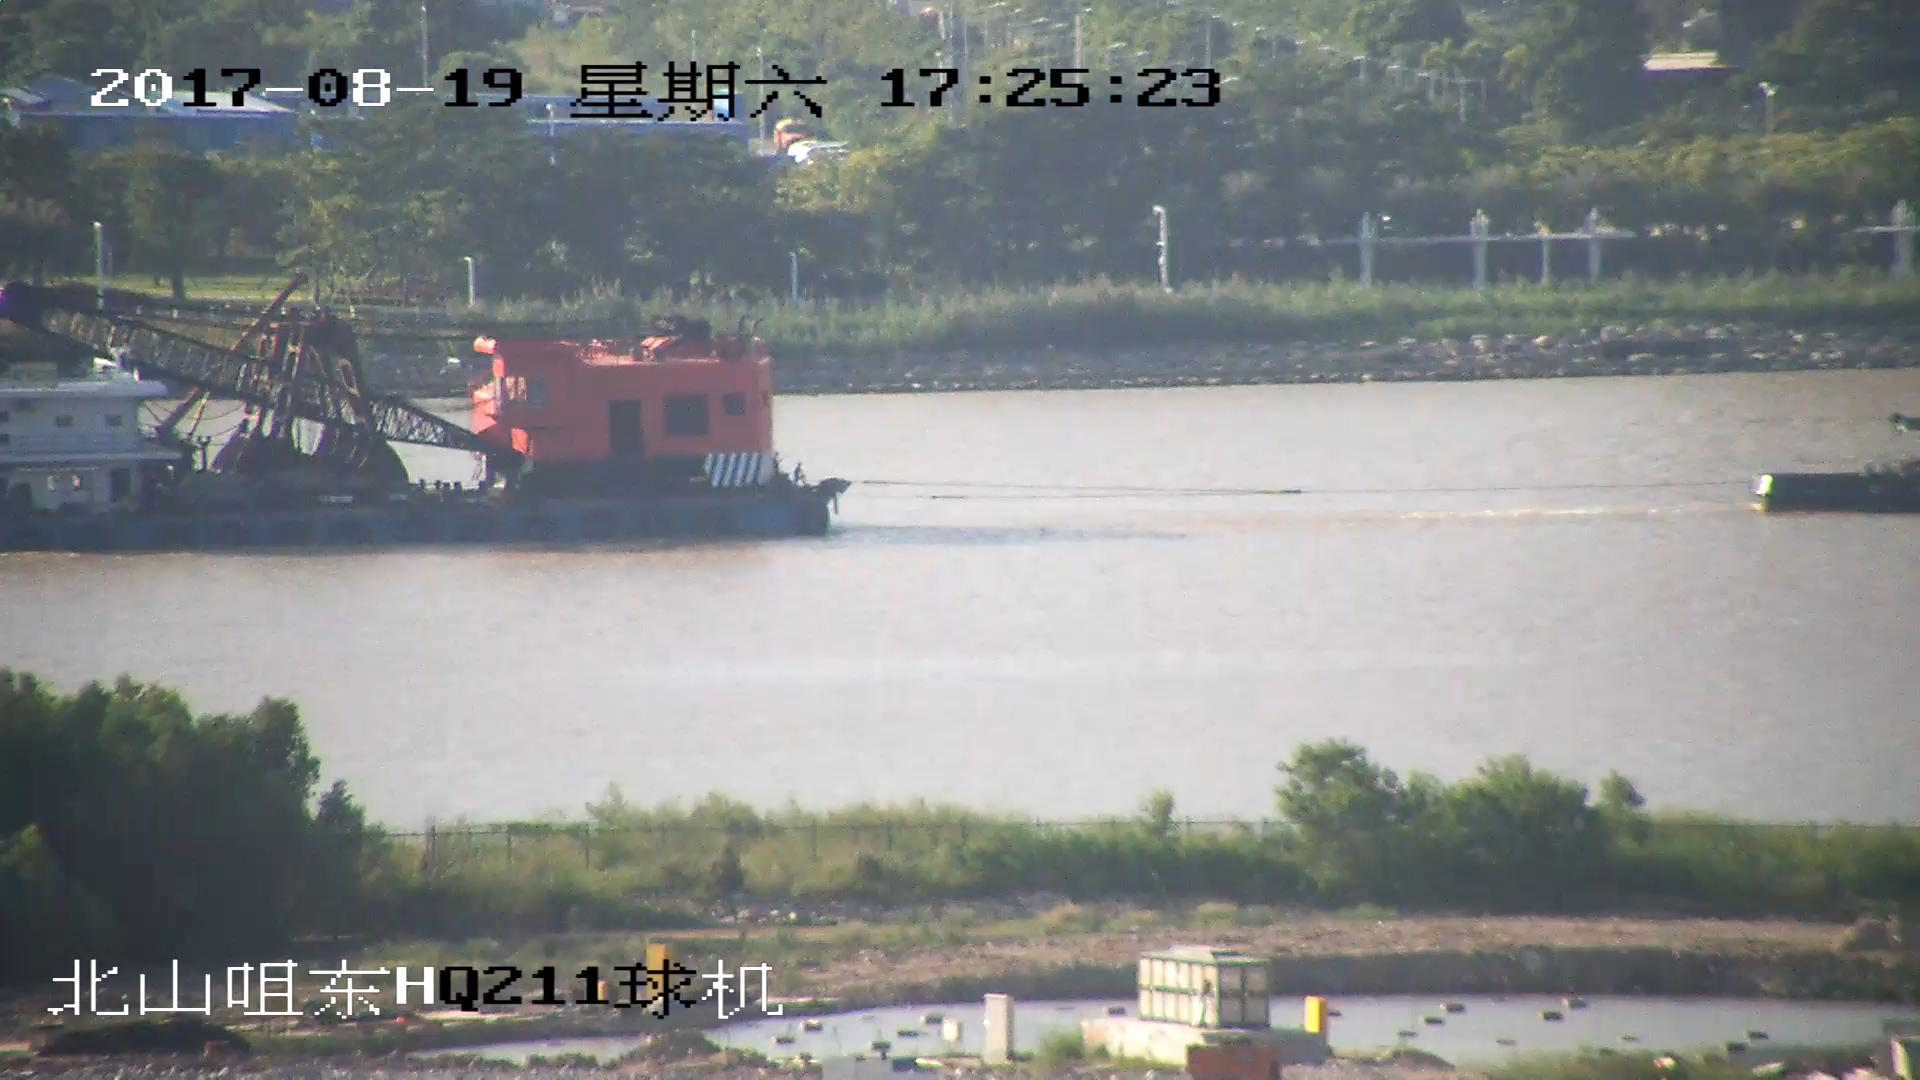fishing boat: (1, 269, 846, 542)
